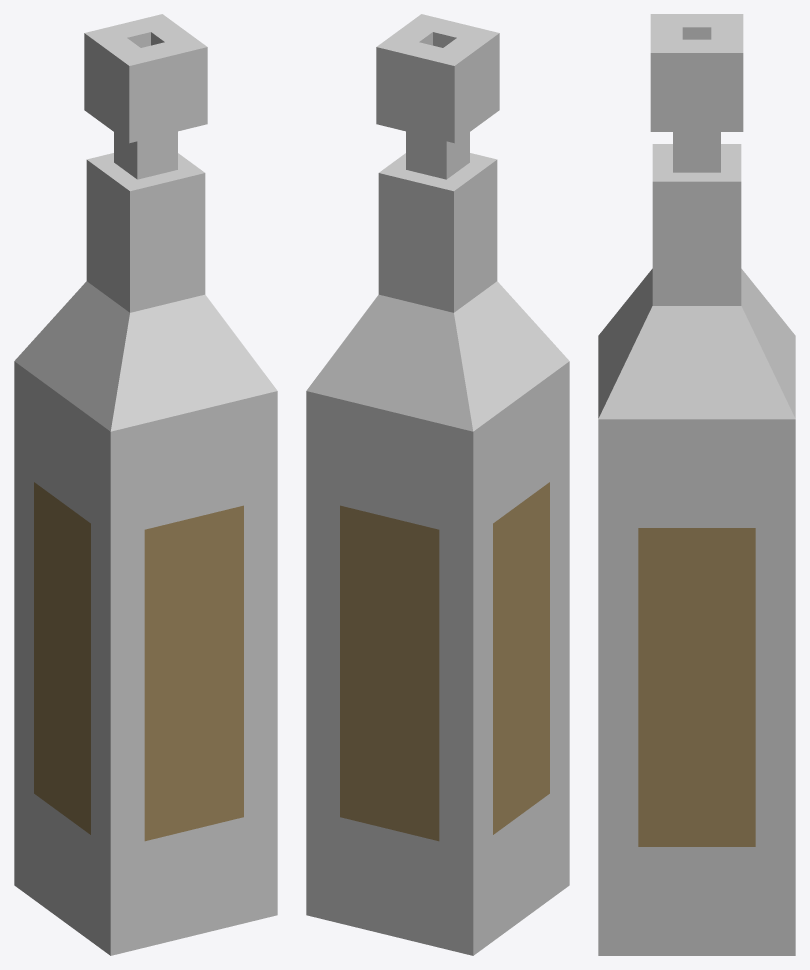
Rendered from item_oasis_water.fbx.
3 renders of one model, left to right at view 1: azimuth 30°, elevation 25°; view 2: azimuth 150°, elevation 25°; view 3: azimuth 270°, elevation 25°, orthographic. The views are drawn at different scales.
Parts seen in each view (by area): view 1: item_oasis_water; view 2: item_oasis_water; view 3: item_oasis_water.
Boxes of the visible parts, x1,y1,x2,y2 form: item_oasis_water: (14, 14, 277, 955); item_oasis_water: (306, 14, 569, 955); item_oasis_water: (598, 14, 795, 955).
Size of the model in its own units: 200 by 985 by 200.
